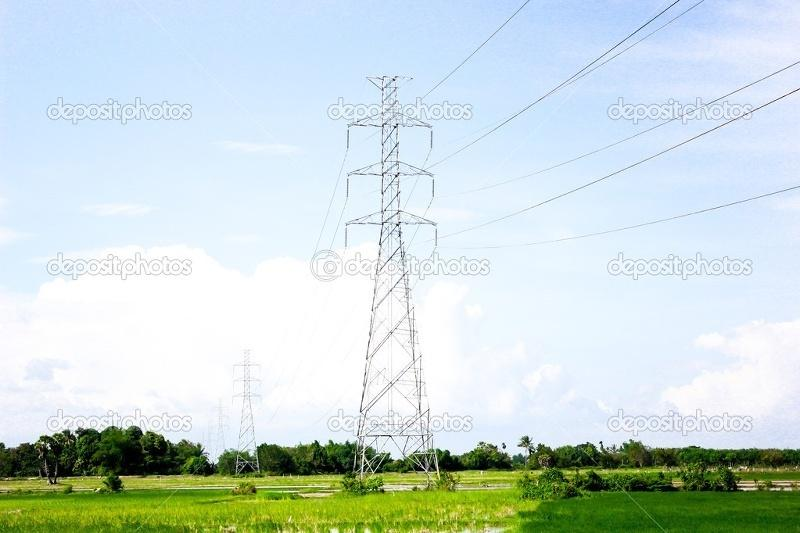power_tower: (320, 61, 466, 486)
